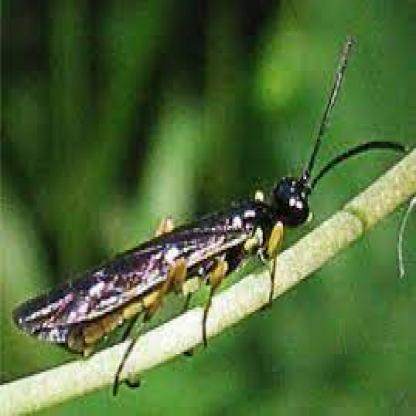sawfly: (8, 34, 406, 393)
